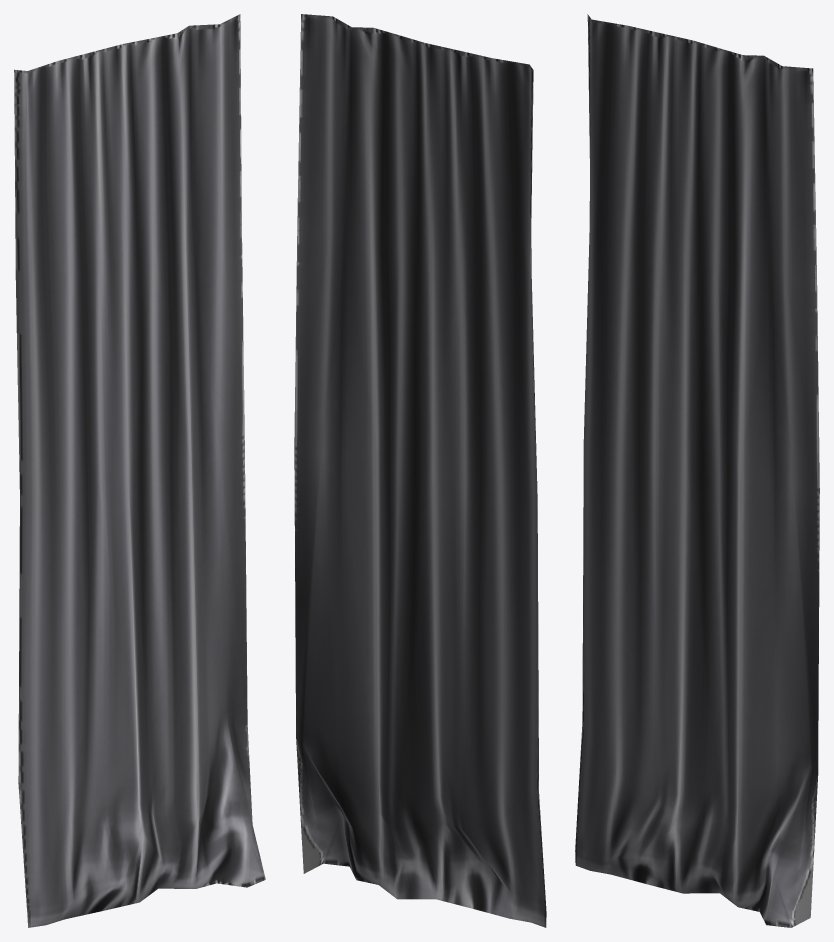
The model's file is Curtain03.FBX.
3 views of the same model, side by side, from view 1: azimuth 30°, elevation 25°; view 2: azimuth 150°, elevation 25°; view 3: azimuth 330°, elevation 25° (orthographic). The views are drawn at different scales.
Parts seen in each view (by area): view 1: Curtain03; view 2: Curtain03; view 3: Curtain03.
Part boxes in pixels (left/top/right/bottom): Curtain03: left=14, top=14, right=265, bottom=927; Curtain03: left=294, top=14, right=546, bottom=927; Curtain03: left=575, top=14, right=819, bottom=927.
Size of the model in its own units: 84.27 by 293 by 20.33.
